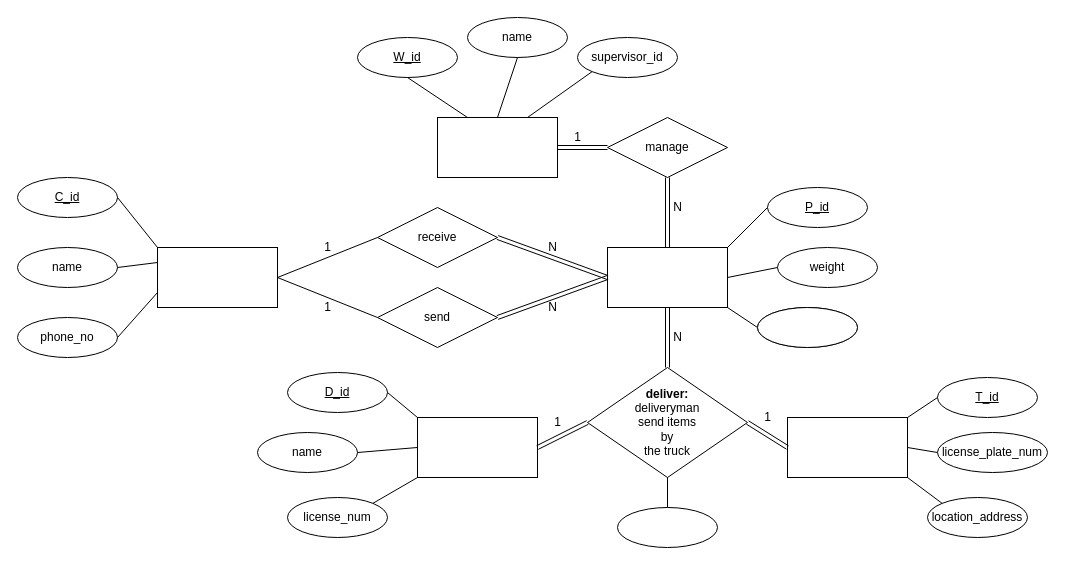
This 1065x565 diagram has some shape labels left out. The centre of each missing label's shape, as x and y in pixels:
"address" goes at point (807, 327).
"customer" goes at point (217, 277).
"delivery_num" goes at point (667, 527).
"deliveryman" goes at point (477, 447).
"package" goes at point (667, 277).
"truck" goes at point (847, 447).
"warehouseman" goes at point (497, 147).
